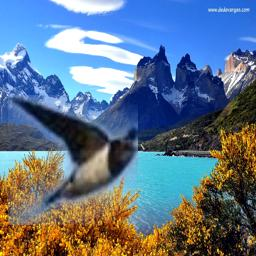Swallow: (8, 95, 138, 225)
